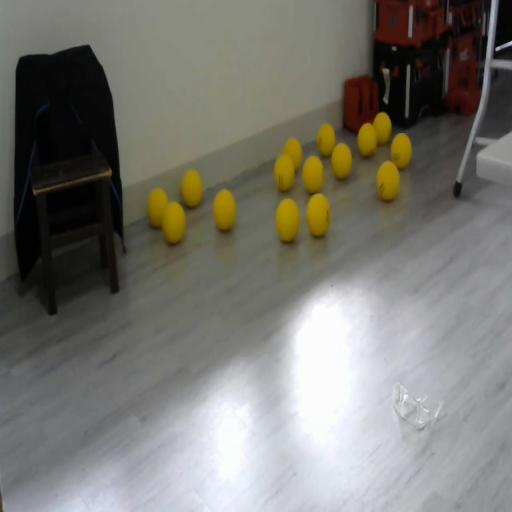FUEL: (274, 197, 300, 243), (212, 188, 237, 232), (306, 193, 330, 237), (376, 160, 400, 201), (146, 186, 169, 228), (180, 169, 203, 208), (302, 155, 324, 193), (391, 132, 412, 170), (332, 142, 352, 179), (357, 122, 377, 157), (283, 137, 302, 173), (316, 123, 336, 156), (373, 111, 392, 144)
